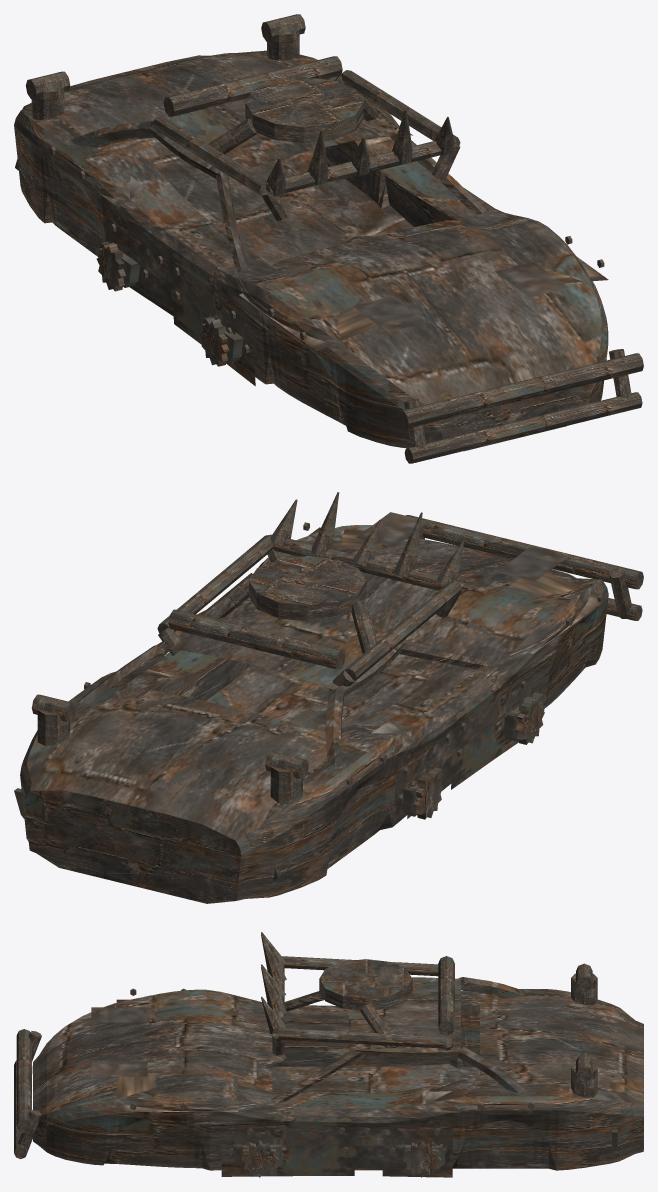
Rendered from falcone_sirena.glb.
3 views of the same model, one above another, from view 1: azimuth 30°, elevation 25°; view 2: azimuth 150°, elevation 25°; view 3: azimuth 270°, elevation 25° (orthographic). The views are drawn at different scales.
Parts seen in each view (by area): view 1: kit-full-plating-painted-metal, kit-bull-bar-painted-metal, kit-turret-mount-painted-metal, kit-cage-painted-metal, kit-scrapper-painted-metal, warlord-crossbar, kit-crown-painted-metal, kit-stack-0-painted-metal, kit-stack-1-painted-metal, kit-raider-painted-metal, kit-plate-2-painted-metal, kit-saw-1-guard-painted-metal (+2 smaller); view 2: kit-full-plating-painted-metal, kit-turret-mount-painted-metal, kit-cage-painted-metal, kit-bull-bar-painted-metal, warlord-crossbar, kit-scrapper-painted-metal, kit-crown-painted-metal, kit-stack-0-painted-metal, kit-stack-1-painted-metal, kit-raider-painted-metal, kit-plate-2-painted-metal, kit-saw-1-guard-painted-metal (+1 smaller); view 3: kit-full-plating-painted-metal, kit-turret-mount-painted-metal, kit-scrapper-painted-metal, kit-cage-painted-metal, kit-raider-painted-metal, kit-bull-bar-painted-metal, kit-crown-painted-metal, kit-saw-1-painted-metal, kit-saw-0-painted-metal, warlord-crossbar, kit-plate-0-painted-metal, kit-stack-1-painted-metal (+2 smaller).
Boxes of the visible parts, box(x1,y1,x2,y2) form: kit-full-plating-painted-metal: box(14, 50, 608, 451); kit-bull-bar-painted-metal: box(399, 349, 643, 463); kit-turret-mount-painted-metal: box(208, 77, 378, 154); kit-cage-painted-metal: box(152, 70, 460, 220); kit-scrapper-painted-metal: box(105, 217, 245, 344); warlord-crossbar: box(163, 56, 342, 116); kit-crown-painted-metal: box(266, 109, 454, 196); kit-stack-0-painted-metal: box(25, 71, 70, 120); kit-stack-1-painted-metal: box(261, 14, 305, 60); kit-raider-painted-metal: box(141, 269, 255, 386); kit-plate-2-painted-metal: box(239, 265, 378, 351); kit-saw-1-guard-painted-metal: box(200, 316, 243, 366); kit-full-plating-painted-metal: box(14, 512, 608, 903); kit-turret-mount-painted-metal: box(201, 556, 377, 653); kit-cage-painted-metal: box(157, 534, 462, 690); kit-bull-bar-painted-metal: box(406, 515, 643, 620); warlord-crossbar: box(168, 609, 345, 669); kit-scrapper-painted-metal: box(394, 674, 532, 821); kit-crown-painted-metal: box(270, 492, 464, 585); kit-stack-0-painted-metal: box(265, 751, 308, 804); kit-stack-1-painted-metal: box(31, 694, 75, 746); kit-raider-painted-metal: box(399, 718, 518, 803); kit-plate-2-painted-metal: box(466, 572, 608, 653); kit-saw-1-guard-painted-metal: box(503, 692, 544, 744); kit-full-plating-painted-metal: box(32, 977, 643, 1170); kit-turret-mount-painted-metal: box(319, 959, 412, 1047); kit-scrapper-painted-metal: box(234, 1127, 452, 1164); kit-cage-painted-metal: box(272, 956, 452, 1055); kit-raider-painted-metal: box(221, 1147, 452, 1177); kit-bull-bar-painted-metal: box(14, 1029, 41, 1158); kit-crown-painted-metal: box(261, 932, 286, 1034); kit-saw-1-painted-metal: box(233, 1140, 283, 1177); kit-saw-0-painted-metal: box(395, 1140, 445, 1177); warlord-crossbar: box(438, 956, 454, 1035); kit-plate-0-painted-metal: box(116, 1073, 238, 1111); kit-stack-1-painted-metal: box(571, 1054, 597, 1097).
Size of the model in its own units: 2.08 by 1.37 by 4.5.
1 material, 1 textured.
